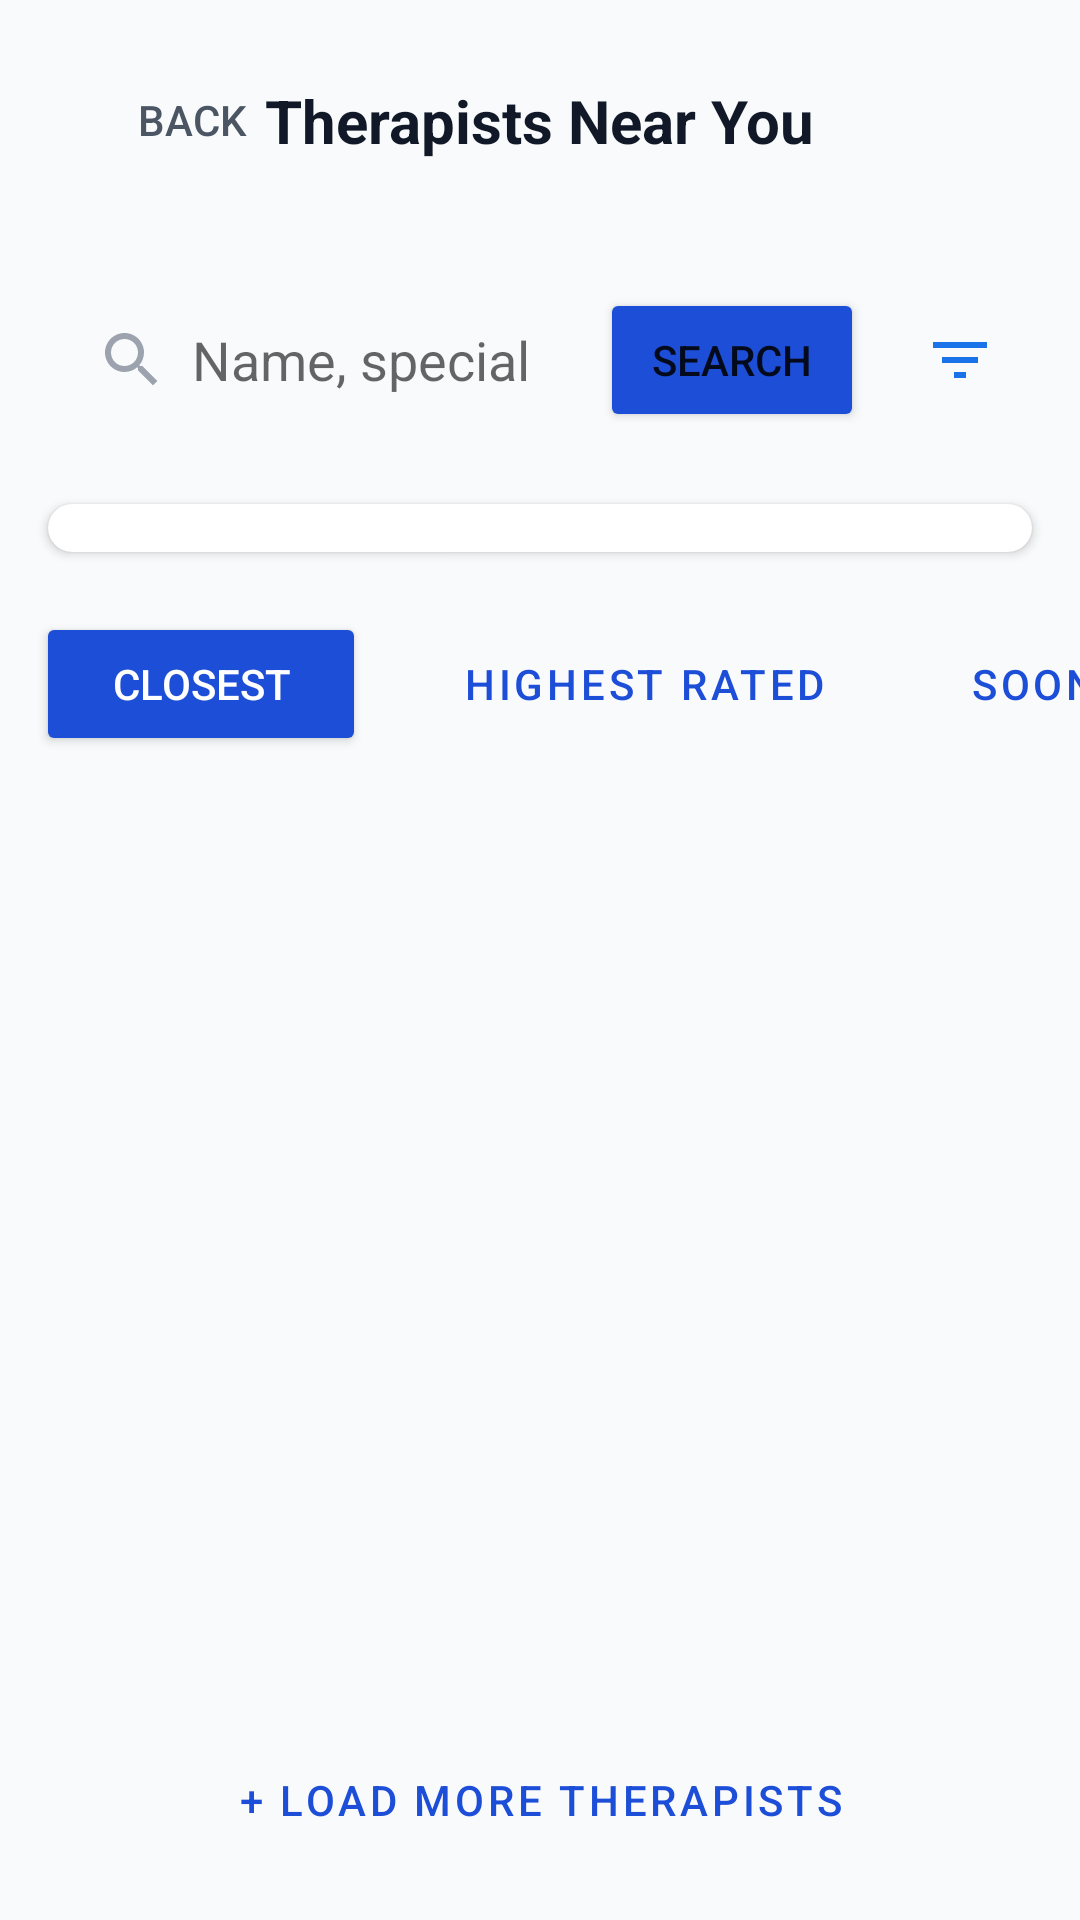

Named icons in this screenshot (1080 × 1920) and their bounding boxes, (x1, y1, x2, y2):
Filters: (933, 342, 987, 378)
Search: (105, 333, 157, 385)
